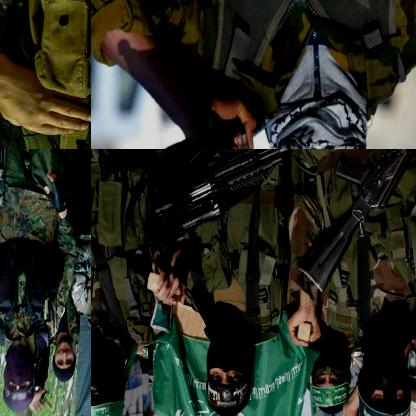rifle: (138, 149, 319, 248), (296, 149, 415, 294), (121, 103, 273, 148)
